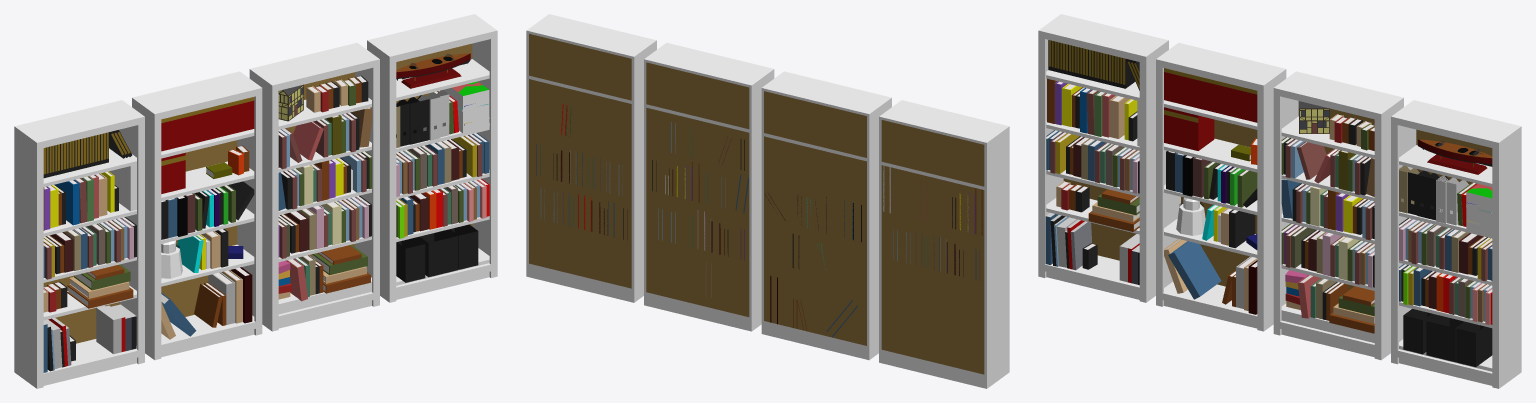
3 renders of one model, left to right at view 1: azimuth 30°, elevation 25°; view 2: azimuth 150°, elevation 25°; view 3: azimuth 330°, elevation 25°, orthographic.
Visible parts, largest first — view 1: Bookcase_003, Bookcase_001, Bookcase_004, Bookcase_002, Group_002, Group_001, Speed_Boat_001, Magazine_Stack_001, Shelf_001, book_017, book_1_005, Shelf_003 (+44 smaller); view 2: Bookcase_003, Bookcase_001, Bookcase_002, Bookcase_004; view 3: Bookcase_004, Bookcase_001, Bookcase_003, Bookcase_002, Group_002, Group_001, book_1_007, Speed_Boat_001, Magazine_Stack_001, Shelf_001, Cookie_Jar_001, House_Half_001 (+45 smaller).
Boxes of the visible parts, box(x1,y1,x2,y2) form: Bookcase_003: box(14, 100, 144, 388); Bookcase_001: box(132, 71, 262, 360); Bookcase_004: box(367, 14, 497, 302); Bookcase_002: box(249, 42, 379, 331); Group_002: box(396, 224, 478, 282); Group_001: box(43, 304, 136, 372); Speed_Boat_001: box(396, 53, 470, 88); Magazine_Stack_001: box(443, 81, 489, 133); Shelf_001: box(161, 161, 254, 201); book_017: box(110, 164, 136, 211); book_1_005: box(194, 283, 222, 327); Shelf_003: box(161, 244, 254, 286); Bookcase_003: box(879, 100, 1009, 388); Bookcase_001: box(761, 71, 891, 360); Bookcase_002: box(644, 42, 774, 331); Bookcase_004: box(526, 14, 656, 302); Bookcase_004: box(1391, 100, 1521, 388); Bookcase_001: box(1156, 42, 1286, 331); Bookcase_003: box(1038, 14, 1168, 302); Bookcase_002: box(1273, 71, 1403, 360); Group_002: box(1403, 309, 1492, 367); Group_001: box(1045, 213, 1139, 284); book_1_007: box(1168, 241, 1221, 299); Speed_Boat_001: box(1418, 139, 1492, 174); Magazine_Stack_001: box(1466, 184, 1492, 235); Shelf_001: box(1164, 138, 1257, 172); Cookie_Jar_001: box(1176, 197, 1205, 235); House_Half_001: box(1299, 101, 1329, 133).
Bounding box in the file's own units: 141 × 72 × 13.13.
